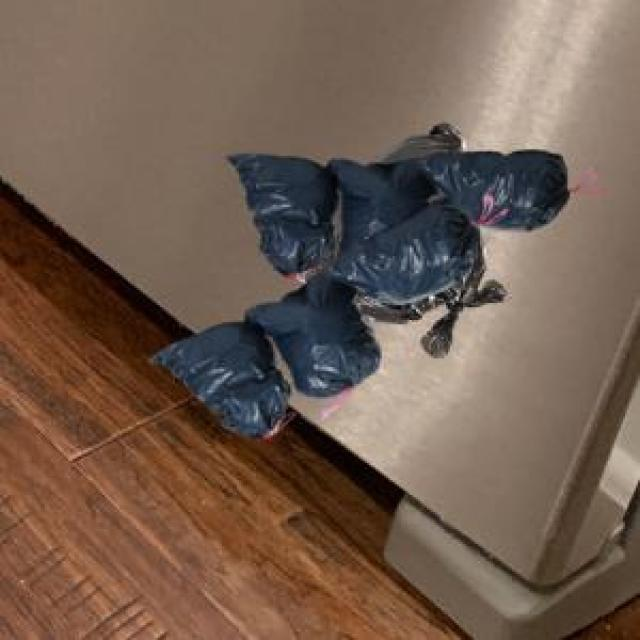waste: (155, 125, 569, 437)
